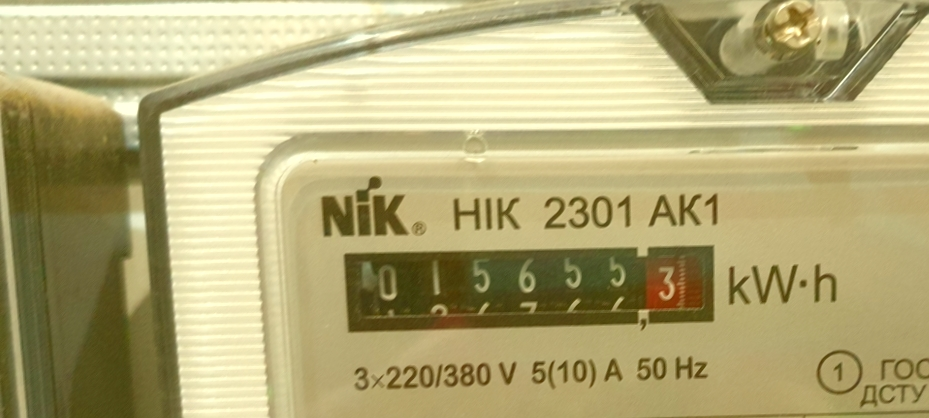0: (374, 259, 401, 301)
1: (426, 257, 446, 296)
3: (656, 263, 677, 300)
5: (468, 257, 494, 293), (561, 256, 585, 288), (608, 254, 628, 287)
6: (515, 256, 539, 293)
screen: (330, 224, 731, 348)
